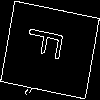F: (25, 24, 72, 64)
